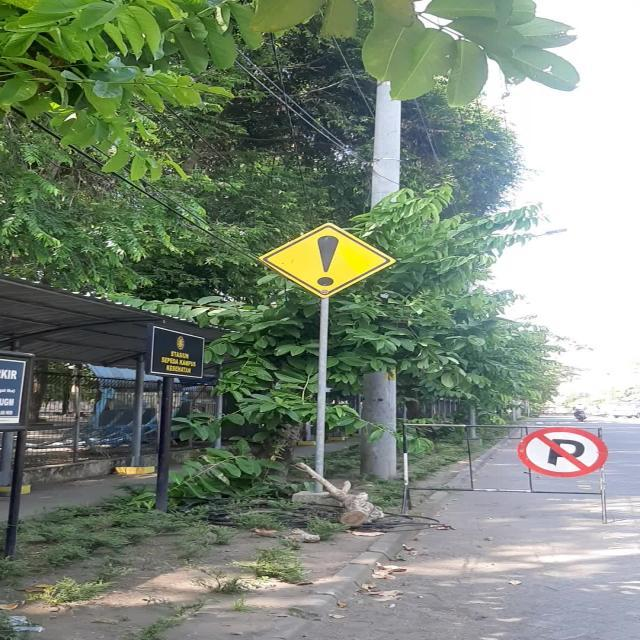Hati-Hati: (256, 222, 396, 298)
